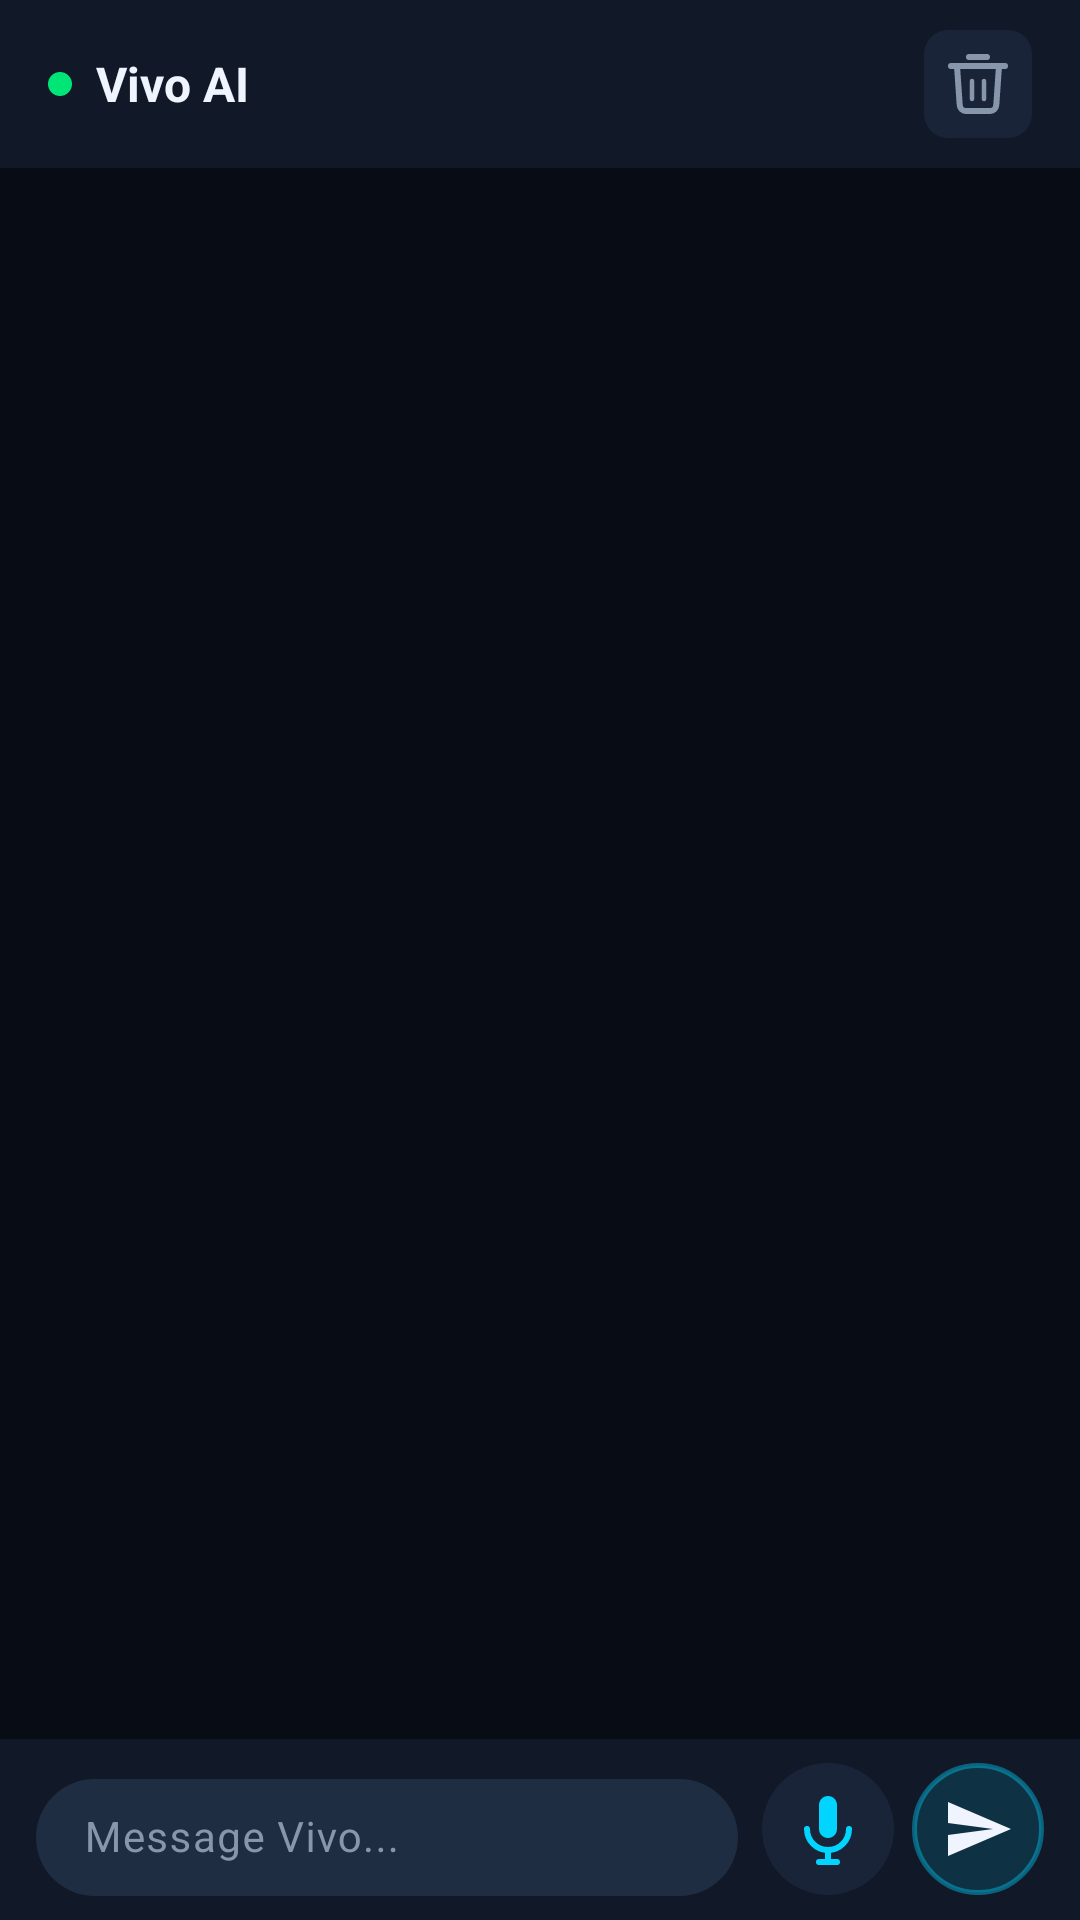

Icon bounding boxes for this 1080×1920 phone screenshot, format (x1, y1, x2, y2):
delete: (924, 30, 1032, 138)
mic: (762, 1763, 894, 1895)
send: (912, 1763, 1044, 1895)
